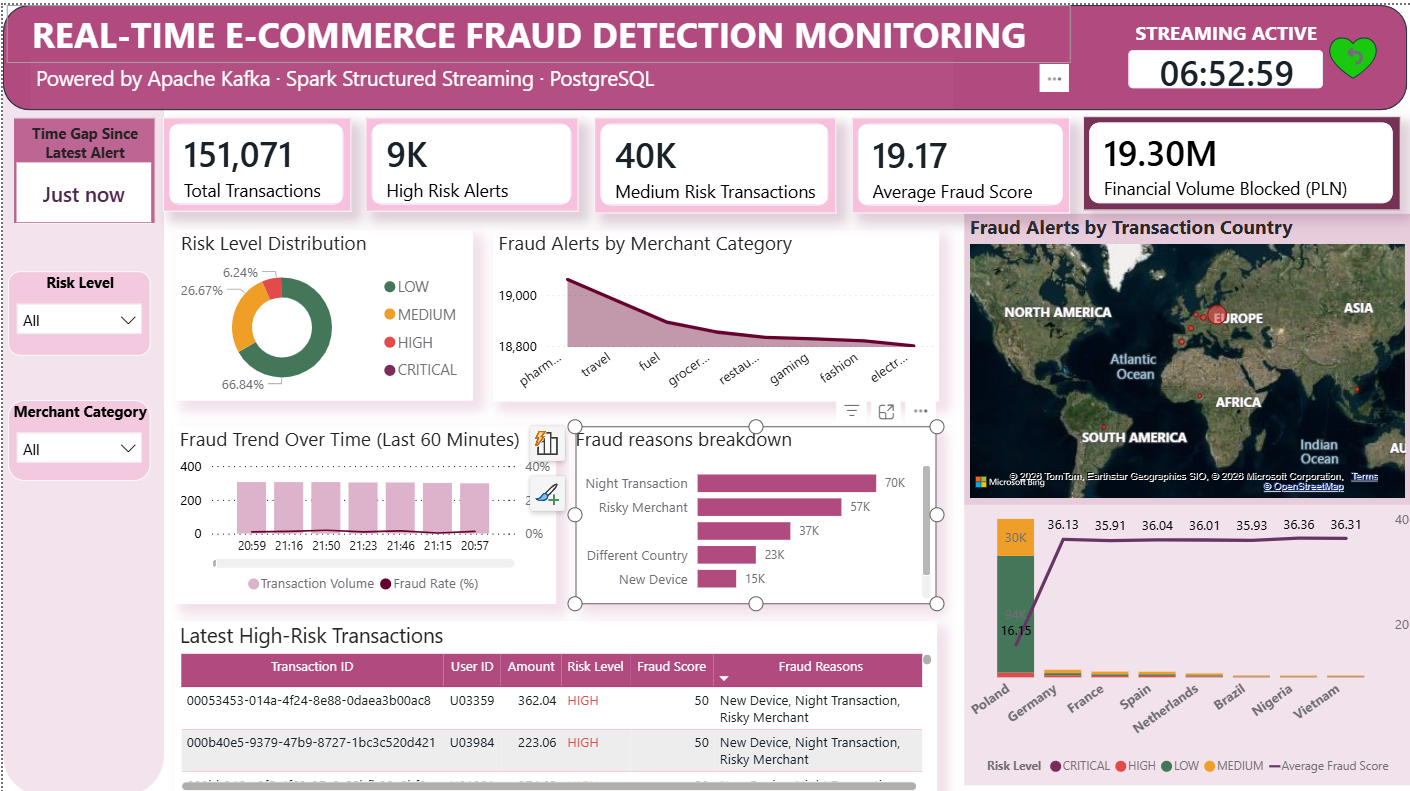

The dashboard page shown, as its layout file describes it:
{"tool":"powerbi","page":{"name":"Page 1","canvas":[1280,720],"ordinal":0},"visuals":[{"type":"shape","box":[0,12.9,146.5,706.7],"z":500},{"type":"cardVisual","fields":{"Data":["public processed_transactions.Total Transactions"]},"box":[145,102.2,170.9,85.5],"z":1000},{"type":"donutChart","title":"Risk Level Distribution","fields":{"Category":["public processed_transactions.risk_level"],"Y":["CountNonNull(public processed_transactions.transaction_id)"]},"box":[156.9,204.3,270,155.1],"z":2000},{"type":"areaChart","title":"Fraud Alerts by Merchant Category","fields":{"Category":["public processed_transactions.merchant_category"],"Y":["CountNonNull(public processed_transactions.transaction_id)"]},"box":[445,205,405.7,155.6],"z":3000},{"type":"map","title":"Fraud Alerts by Transaction Country","fields":{"Category":["public processed_transactions.transaction_country"],"Size":["CountNonNull(public processed_transactions.transaction_id)"]},"box":[873.9,189.8,405.7,263.6],"z":4000},{"type":"lineStackedColumnComboChart","title":"Fraud Trend Over Time (Last 60 Minutes)","fields":{"Category":["public processed_transactions.Time Label"],"Y":["CountNonNull(public processed_transactions.transaction_id)"],"Y2":["public processed_transactions.Fraud_Rate"]},"box":[155.8,382.9,347.3,161.8],"z":5000},{"type":"tableEx","title":"Latest High-Risk Transactions","fields":{"Values":["public processed_transactions.transaction_id","public processed_transactions.user_id","Sum(public processed_transactions.amount)","public processed_transactions.risk_level","Sum(public processed_transactions.fraud_score)","public processed_transactions.fraud_reasons"]},"box":[156.1,560.2,693.8,159.4],"z":6000},{"type":"clusteredBarChart","title":"Fraud reasons breakdown","fields":{"Category":["FraudReasonsExpanded.reason"],"Y":["CountNonNull(FraudReasonsExpanded.reason)"]},"box":[521,382.9,328,161.8],"z":7000},{"type":"lineStackedColumnComboChart","title":"Average Fraud Score","fields":{"Category":["public processed_transactions.transaction_country"],"Series":["public processed_transactions.risk_level"],"Y":["CountNonNull(public processed_transactions.transaction_id)"],"Y2":["public processed_transactions.Average Fraud Score"]},"box":[873.9,453.4,405.7,255.7],"z":8000},{"type":"shape","box":[0,0,1276.5,95.6],"z":9000},{"type":"cardVisual","fields":{"Data":["public processed_transactions.High Risk Alerts"]},"box":[329.6,102.2,193.8,85.5],"z":10000},{"type":"cardVisual","fields":{"Data":["public processed_transactions.Medium Risk Transactions"]},"box":[537.2,102.2,219.7,87],"z":11000},{"type":"cardVisual","fields":{"Data":["public processed_transactions.Financial Volume Blocked (PLN)"]},"box":[981.8,101.5,288.9,85.9],"z":12000},{"type":"cardVisual","title":"Time Gap Since Latest Alert","fields":{"Data":["public processed_transactions.Time_Gap_Fixed"]},"box":[8.7,102,129.4,97],"z":13000},{"type":"slicer","title":"Merchant Category","fields":{"Values":["public processed_transactions.merchant_category"]},"box":[5,359.5,129.4,73.4],"z":14000},{"type":"cardVisual","fields":{"Data":["public processed_transactions.Average Fraud Score"]},"box":[772.2,102.2,198.4,87],"z":15000},{"type":"textbox","box":[3.9,0,966.2,52.7],"z":16000},{"type":"slicer","title":"Risk Level","fields":{"Values":["public processed_transactions.risk_level"]},"box":[5,242.6,129.4,77.1],"z":17000},{"type":"shape","box":[1205.6,30,43.2,37.6],"z":18000},{"type":"textbox","box":[25.4,48.8,839.3,46.8],"z":19000},{"type":"cardVisual","title":"STREAMING ACTIVE","fields":{"Data":["public processed_transactions.Latest Transaction Time"]},"box":[1017.8,13.1,187.8,67.6],"z":20000},{"type":"actionButton","box":[1212.4,29.5,37.3,33.4],"z":21000}]}

Visuals, with their boxes in screenshot pixels (x1, y1, x2, y2), scaled from the page's 1280x720 canvas onto the 1410x791 screenshot:
shape: left=0, top=14, right=161, bottom=790
cardVisual - public processed_transactions.Total Transactions: left=160, top=112, right=348, bottom=206
"Risk Level Distribution" donutChart: left=173, top=224, right=470, bottom=395
"Fraud Alerts by Merchant Category" areaChart: left=490, top=225, right=937, bottom=396
"Fraud Alerts by Transaction Country" map: left=963, top=209, right=1409, bottom=498
"Fraud Trend Over Time (Last 60 Minutes)" lineStackedColumnComboChart: left=172, top=421, right=554, bottom=598
"Latest High-Risk Transactions" tableEx: left=172, top=615, right=936, bottom=790
"Fraud reasons breakdown" clusteredBarChart: left=574, top=421, right=935, bottom=598
"Average Fraud Score" lineStackedColumnComboChart: left=963, top=498, right=1409, bottom=779
shape: left=0, top=0, right=1406, bottom=105
cardVisual - public processed_transactions.High Risk Alerts: left=363, top=112, right=577, bottom=206
cardVisual - public processed_transactions.Medium Risk Transactions: left=592, top=112, right=834, bottom=208
cardVisual - public processed_transactions.Financial Volume Blocked (PLN): left=1082, top=112, right=1400, bottom=206
"Time Gap Since Latest Alert" cardVisual: left=10, top=112, right=152, bottom=219
"Merchant Category" slicer: left=6, top=395, right=148, bottom=476
cardVisual - public processed_transactions.Average Fraud Score: left=851, top=112, right=1069, bottom=208
textbox: left=4, top=0, right=1069, bottom=58
"Risk Level" slicer: left=6, top=267, right=148, bottom=351
shape: left=1328, top=33, right=1376, bottom=74
textbox: left=28, top=54, right=953, bottom=105
"STREAMING ACTIVE" cardVisual: left=1121, top=14, right=1328, bottom=89
actionButton: left=1336, top=32, right=1377, bottom=69
